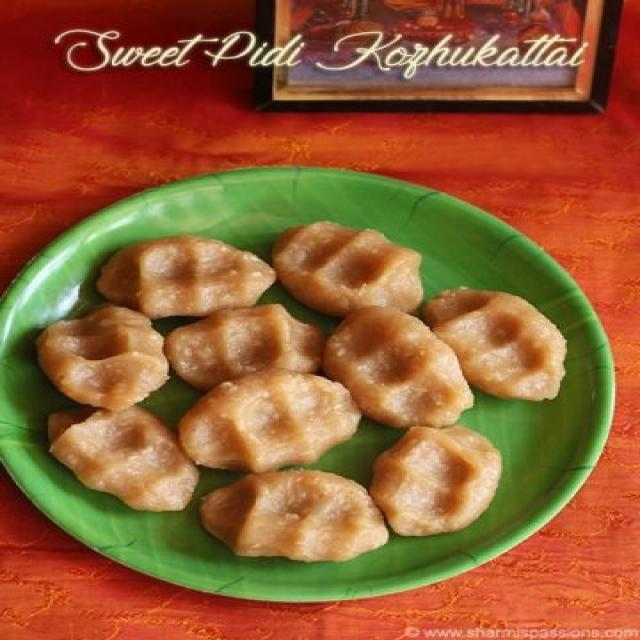pidi kolukattai: (47, 197, 576, 595)
